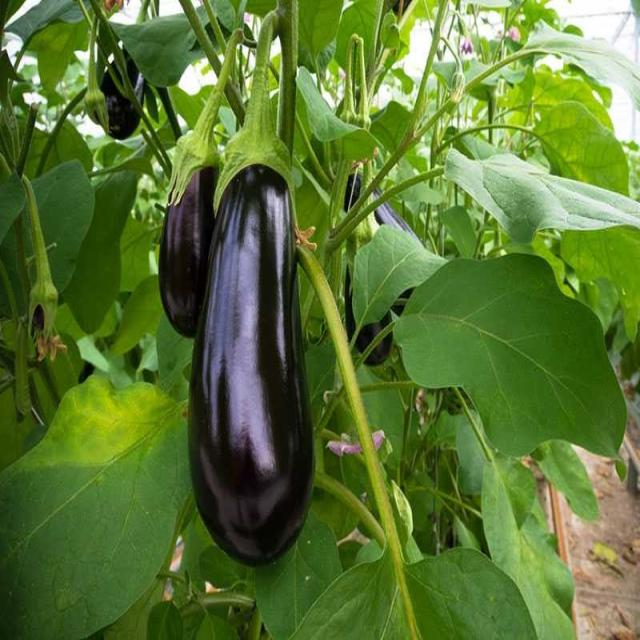Eggplant-r1Ob: (189, 12, 314, 564), (159, 29, 242, 336)
